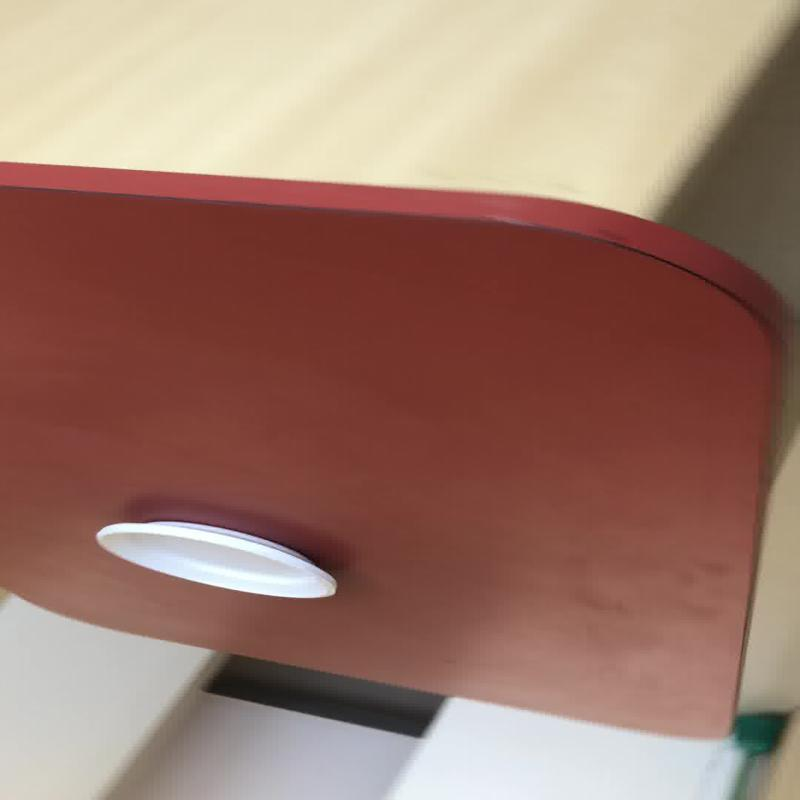plate: (0, 159, 788, 738), (93, 519, 337, 599)
